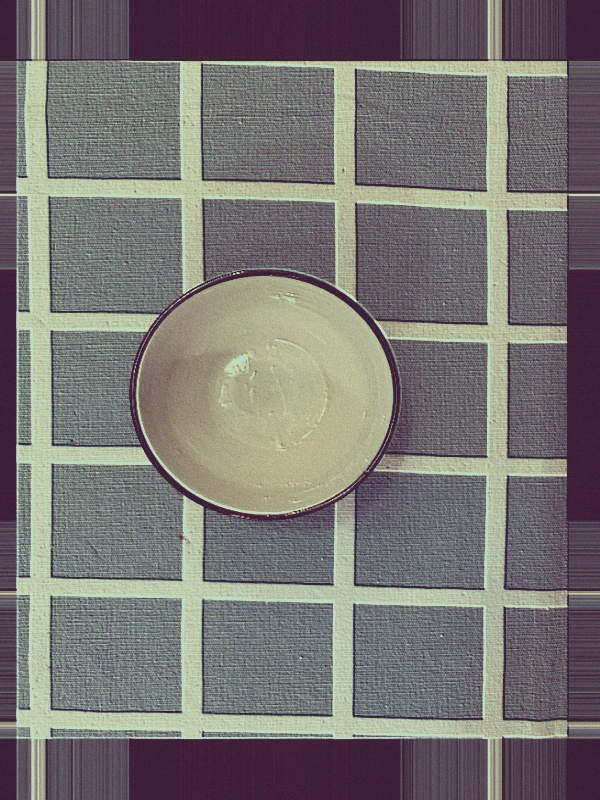bowl_small: (124, 261, 409, 527)
